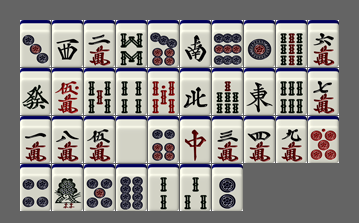0m: (52, 68, 83, 115)
0p: (308, 116, 339, 163)
0s: (148, 68, 179, 115)
1m: (20, 116, 51, 163)
1p: (244, 20, 275, 67)
1s: (52, 164, 83, 211)
1z: (244, 68, 275, 115)
2m: (84, 20, 115, 67)
2p: (212, 164, 243, 211)
2s: (148, 164, 179, 211)
2z: (180, 20, 211, 67)
3m: (212, 116, 243, 163)
3p: (20, 20, 51, 67)
3s: (180, 164, 211, 211)
3z: (52, 20, 83, 67)
4m: (244, 116, 275, 163)
4p: (20, 164, 51, 211)
4s: (116, 68, 147, 115)
4z: (180, 68, 211, 115)
5m: (84, 116, 115, 163)
5p: (84, 164, 115, 211)
5s: (84, 68, 115, 115)
5z: (116, 116, 147, 163)
6m: (308, 20, 339, 67)
6p: (148, 116, 179, 163)
6s: (276, 68, 307, 115)
6z: (20, 68, 51, 115)
7m: (308, 68, 339, 115)
7p: (148, 20, 179, 67)
7s: (212, 68, 243, 115)
7z: (180, 116, 211, 163)
8m: (52, 116, 83, 163)
8p: (116, 164, 147, 211)
8s: (116, 20, 147, 67)
9m: (276, 116, 307, 163)
9p: (212, 20, 243, 67)
9s: (276, 20, 307, 67)
